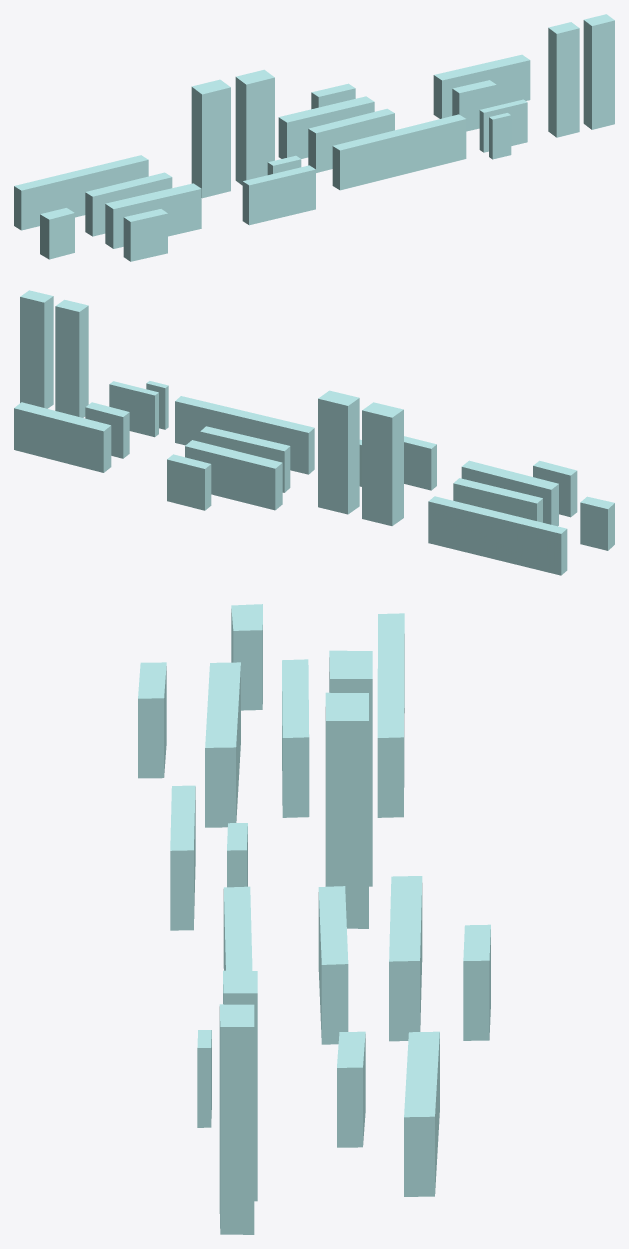
The model's file is industrial-03.glb.
3 renders of one model, top to bottom at view 1: azimuth 30°, elevation 25°; view 2: azimuth 150°, elevation 25°; view 3: azimuth 270°, elevation 25°, orthographic. The views are drawn at different scales.
Parts seen in each view (by area): view 1: Areas:building.003, Areas:building.067, Areas:building.002, Areas:building.006, Areas:building.005, Areas:building.004, Areas:building.007, Areas:building.001; view 2: Areas:building.067, Areas:building.003, Areas:building.002, Areas:building.006, Areas:building.005, Areas:building.007, Areas:building.004, Areas:building.001; view 3: Areas:building.067, Areas:building.003, Areas:building.002, Areas:building.006, Areas:building.005, Areas:building.004, Areas:building.001, Areas:building.007.
Boxes of the visible parts, <box> form: Areas:building.003: <box>278,83,466,190</box>; Areas:building.067: <box>14,155,201,261</box>; Areas:building.002: <box>191,69,274,198</box>; Areas:building.006: <box>548,14,614,137</box>; Areas:building.005: <box>433,54,530,131</box>; Areas:building.004: <box>242,155,315,225</box>; Areas:building.007: <box>479,99,527,159</box>; Areas:building.001: <box>40,208,74,259</box>; Areas:building.067: <box>428,460,577,575</box>; Areas:building.003: <box>167,396,314,510</box>; Areas:building.002: <box>318,390,403,525</box>; Areas:building.006: <box>20,290,88,417</box>; Areas:building.005: <box>14,402,129,472</box>; Areas:building.007: <box>109,381,168,437</box>; Areas:building.004: <box>359,436,436,490</box>; Areas:building.001: <box>580,496,614,550</box>; Areas:building.067: <box>138,613,404,827</box>; Areas:building.003: <box>223,876,490,1044</box>; Areas:building.002: <box>325,650,372,928</box>; Areas:building.006: <box>219,970,257,1234</box>; Areas:building.005: <box>337,1031,439,1196</box>; Areas:building.004: <box>170,785,247,930</box>; Areas:building.001: <box>231,604,262,710</box>; Areas:building.007: <box>197,1030,211,1127</box>.
Bounding box in the file's own units: 51.43 × 9.04 × 13.93.
